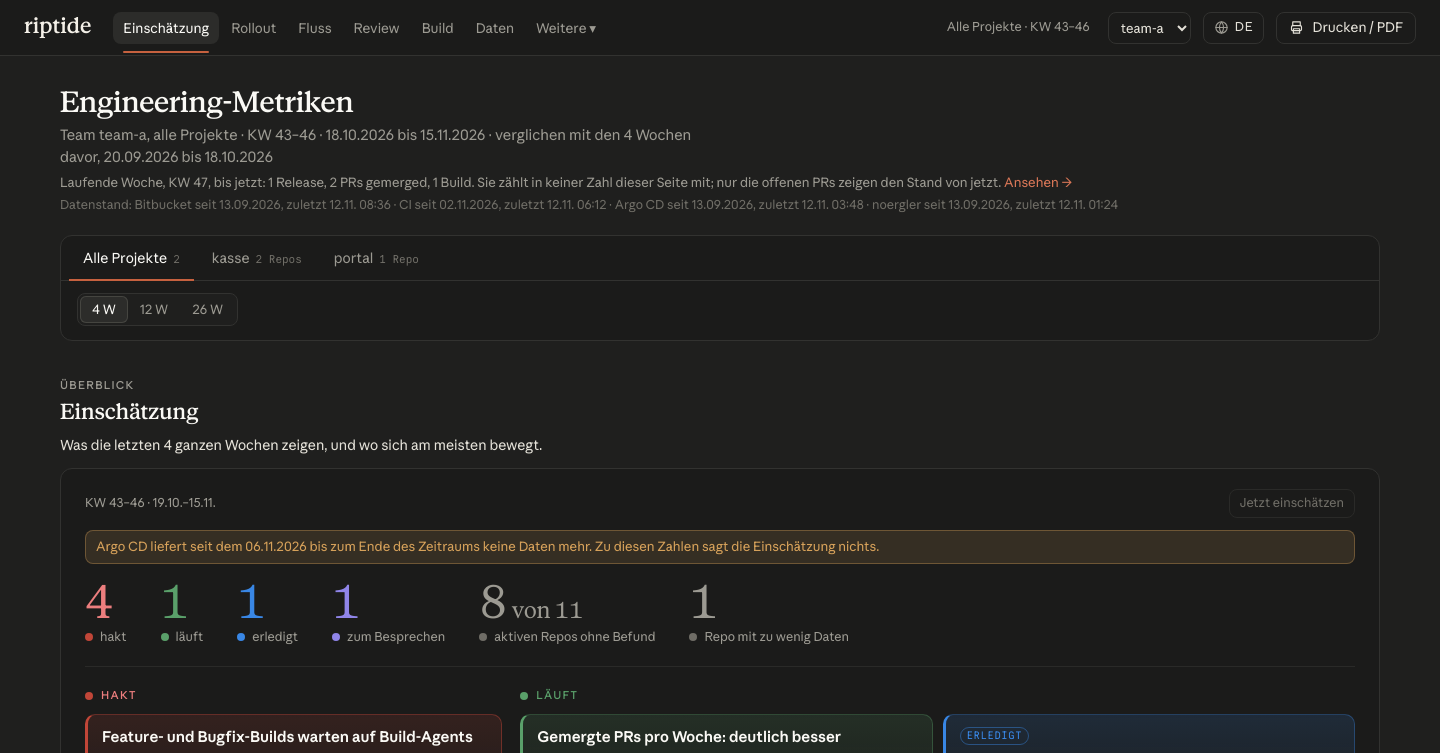
Test: App › keeps a view's ask failure past a late one of another view
This screenshot has width=1440, height=753.
Click the button "Jetzt einschätzen". click: click(1292, 504)
box: [1229, 489, 1355, 518]
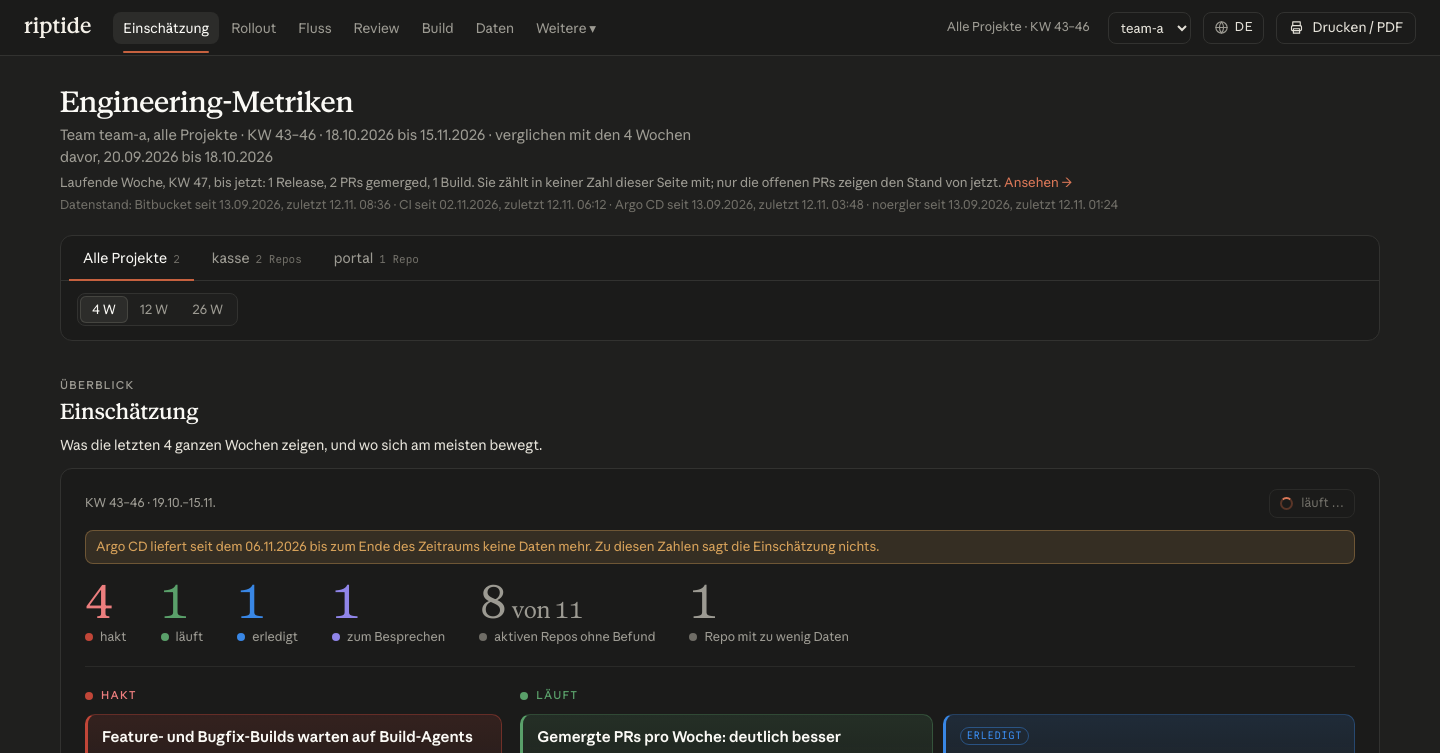
Click the button "12 W". click: click(154, 310)
box: [128, 296, 180, 323]
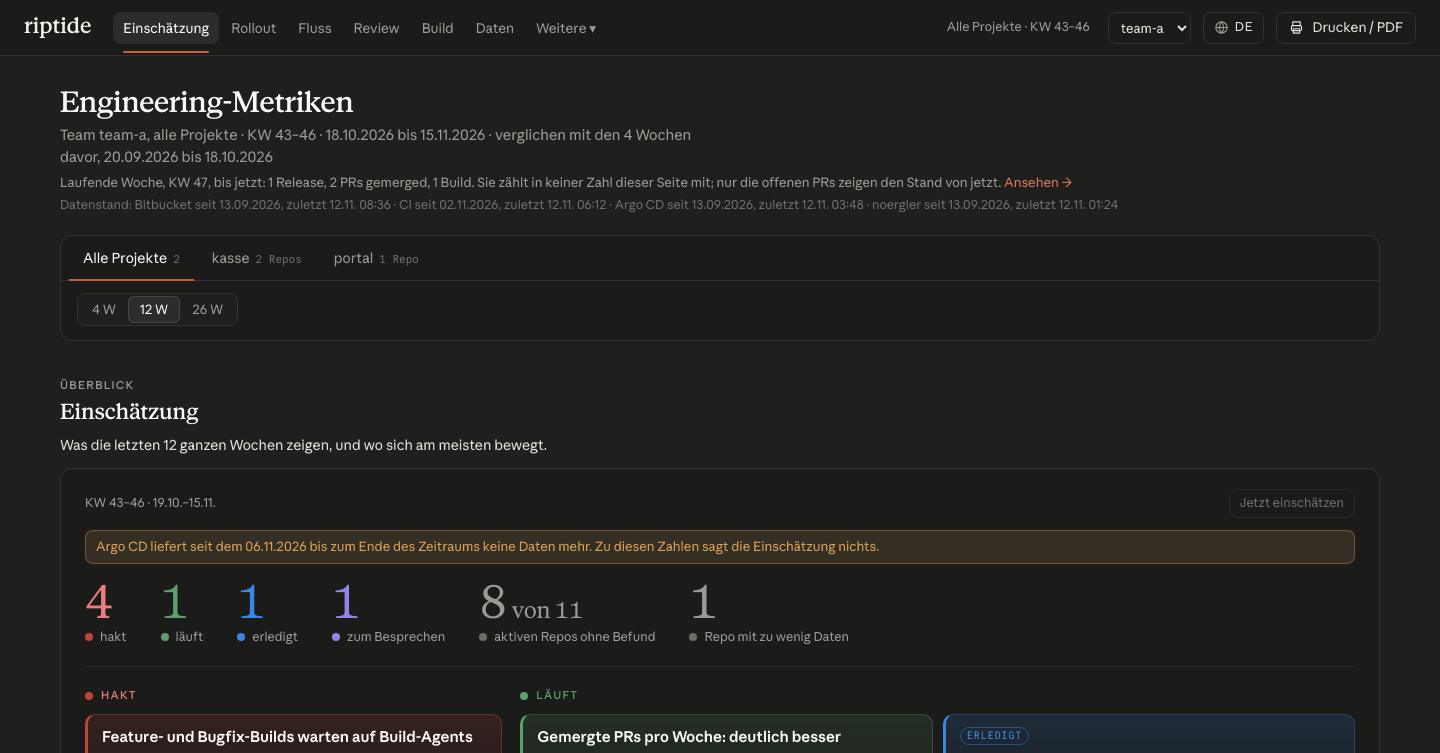
Click the button "Jetzt einschätzen". click: click(1292, 504)
box: [1229, 489, 1355, 518]
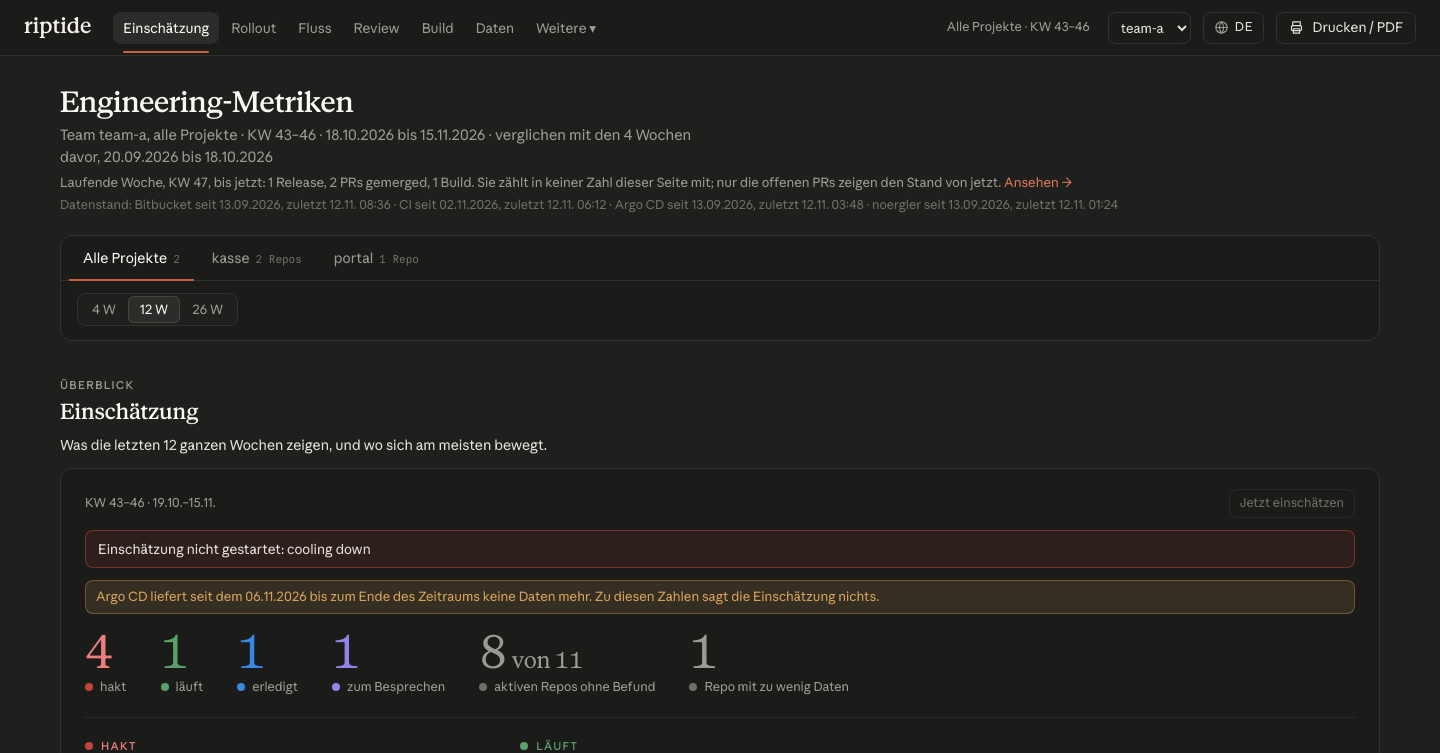
Expected: the text "Einschätzung nicht gestartet: cooling down" is shown, [85, 530, 1355, 568]
